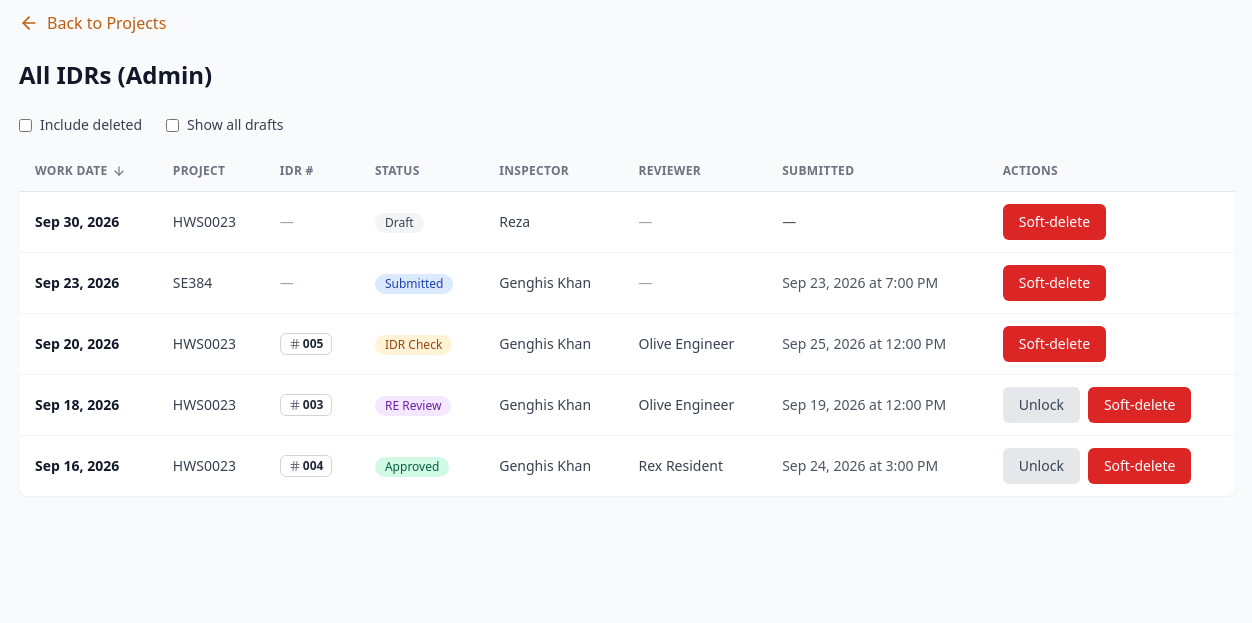
AdminIdrsPage — toggles › unticking it asks again without them
Click the checkbox labelled "Include deleted" at point(26, 125), box [19,118,32,132]
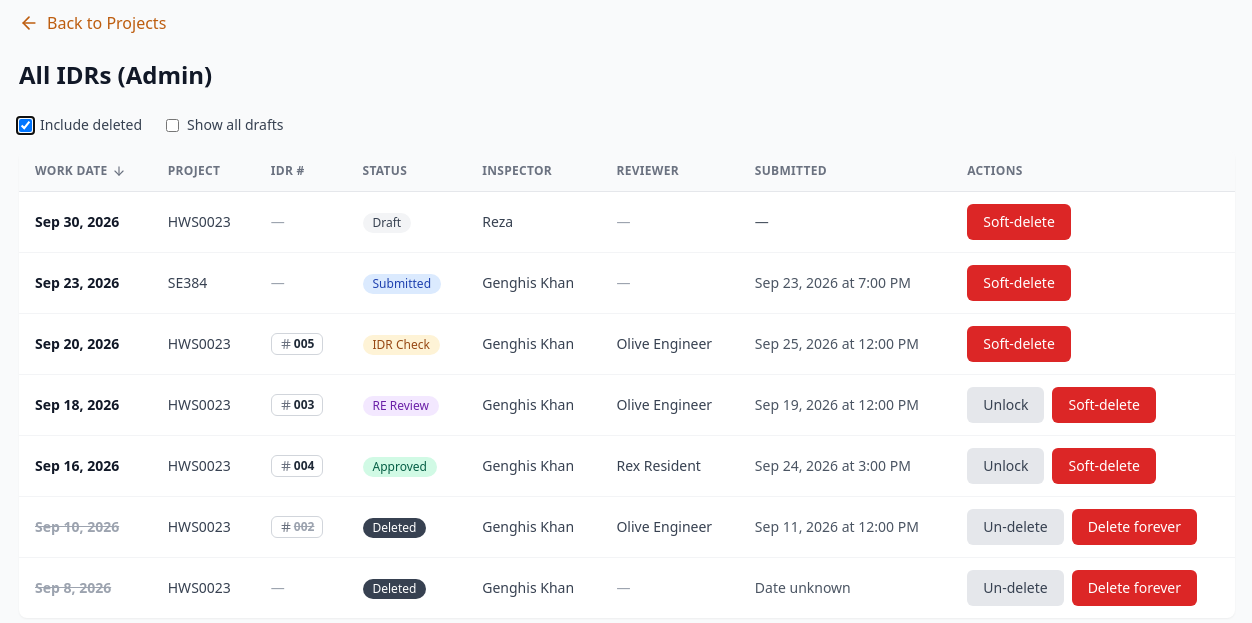
Click the checkbox labelled "Include deleted" at point(26, 125), box [19,118,32,132]
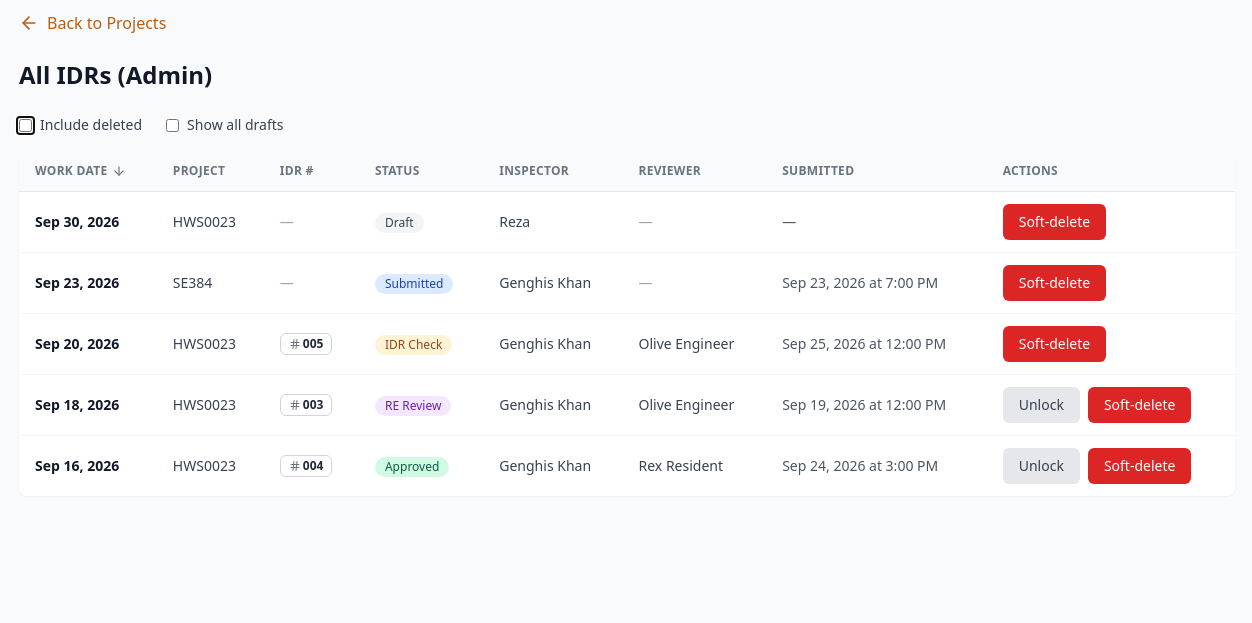
Expected: the text "Sep 10, 2026" is gone
